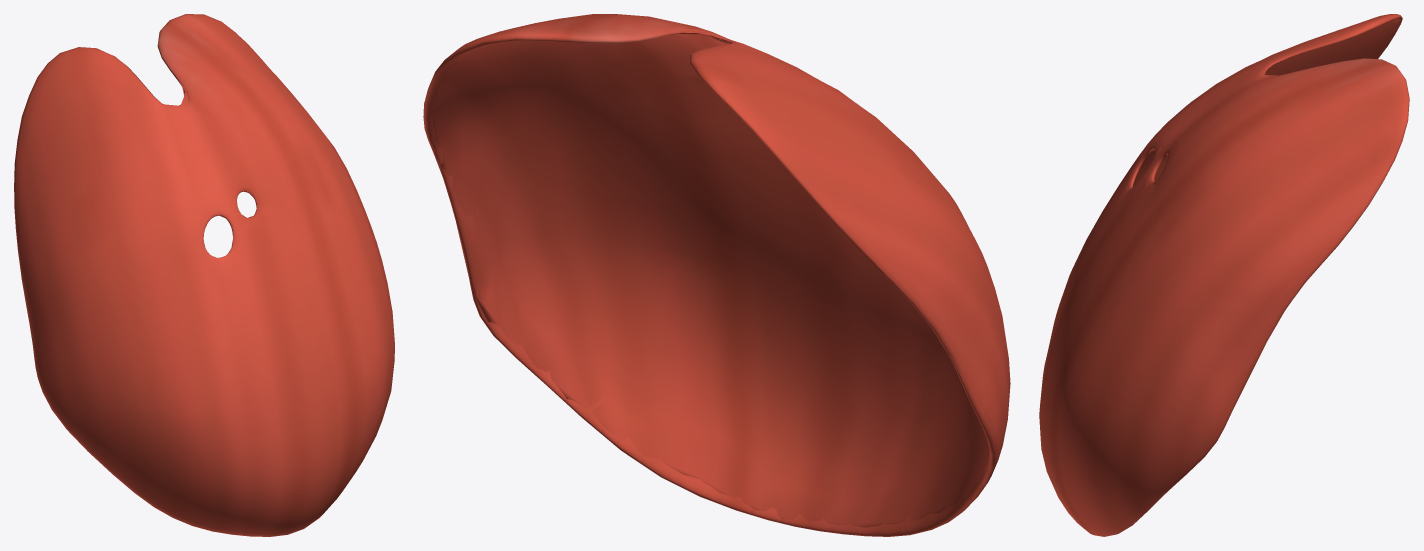
Rendered from Diaphragm.fbx.
The picture shows the model from 3 angles, left to right: view 1: azimuth 30°, elevation 25°; view 2: azimuth 150°, elevation 25°; view 3: azimuth 270°, elevation 25°; orthographic projection. The views are drawn at different scales.
Visible parts, largest first — view 1: Diaphragm, Diaphragm high, Diaphragm low; view 2: Diaphragm low, Diaphragm, Diaphragm high; view 3: Diaphragm, Diaphragm high, Diaphragm low.
Part boxes in pixels (x1,y1,x2,y2): Diaphragm: (14,14,394,536); Diaphragm high: (17,19,393,534); Diaphragm low: (30,80,273,336); Diaphragm low: (432,31,989,527); Diaphragm: (423,14,1010,536); Diaphragm high: (427,18,1003,535); Diaphragm: (1039,14,1409,536); Diaphragm high: (1041,16,1401,535); Diaphragm low: (1132,19,1396,405).
Bounding box in the file's own units: 17.26 × 20.3 × 14.58.
1 material, 1 textured.
